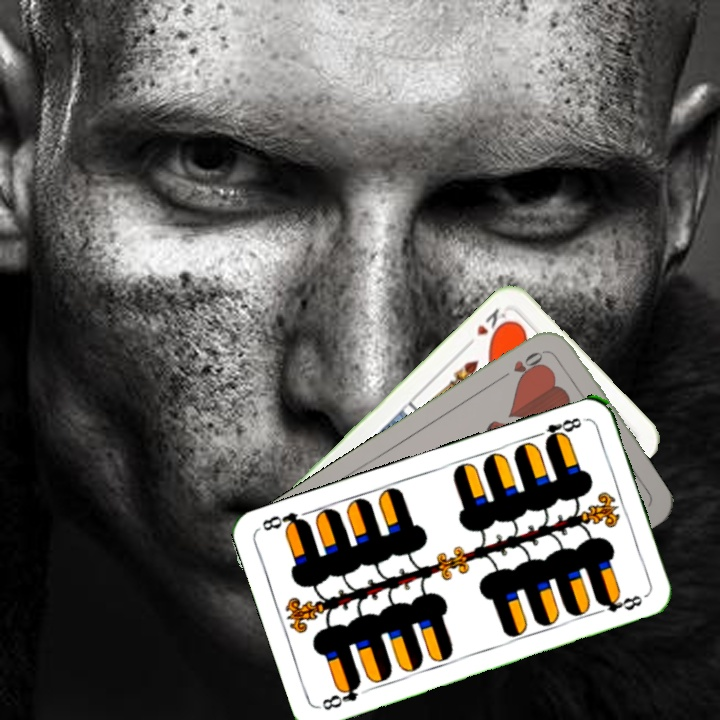E8: (531, 413, 584, 446), (316, 677, 364, 713)
HK: (462, 304, 512, 351)
HO: (496, 345, 550, 384)
